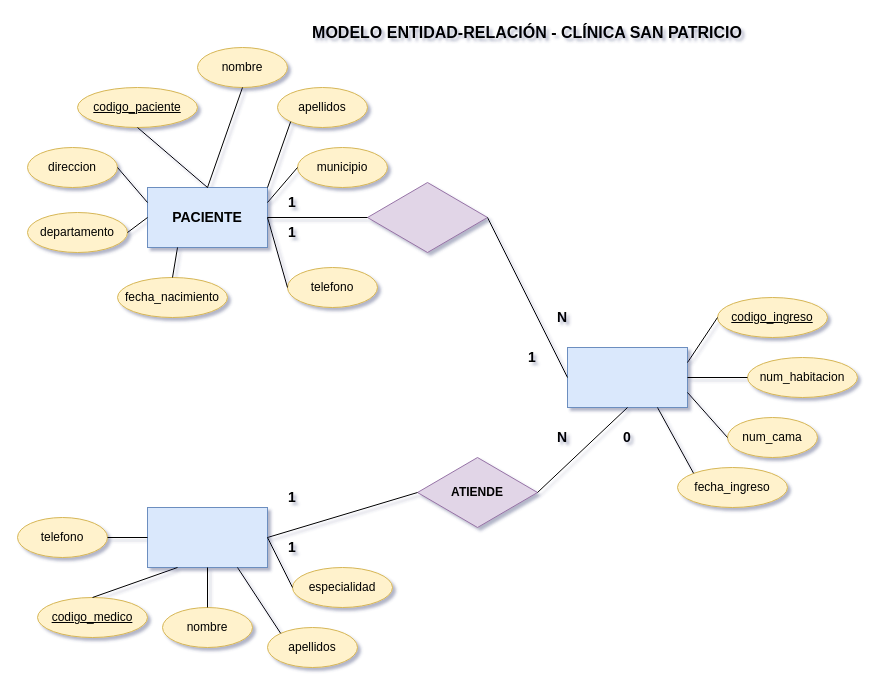
The diagram is 881 pixels wide and 691 high, and some of its shapes have lost their labels. Here are the shapes that lost their labels. From the top down, the centre of each, then its label:
At point (427, 217): "REALIZA".
At point (627, 377): "INGRESO".
At point (207, 537): "MÉDICO".
